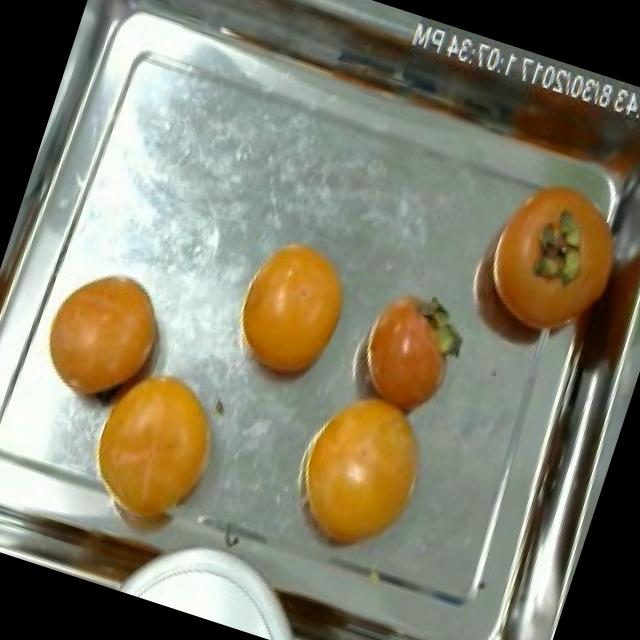Fruit: (57, 340, 253, 566), (450, 146, 640, 373), (270, 373, 451, 580), (25, 252, 186, 429), (214, 221, 368, 406), (338, 274, 478, 434)
